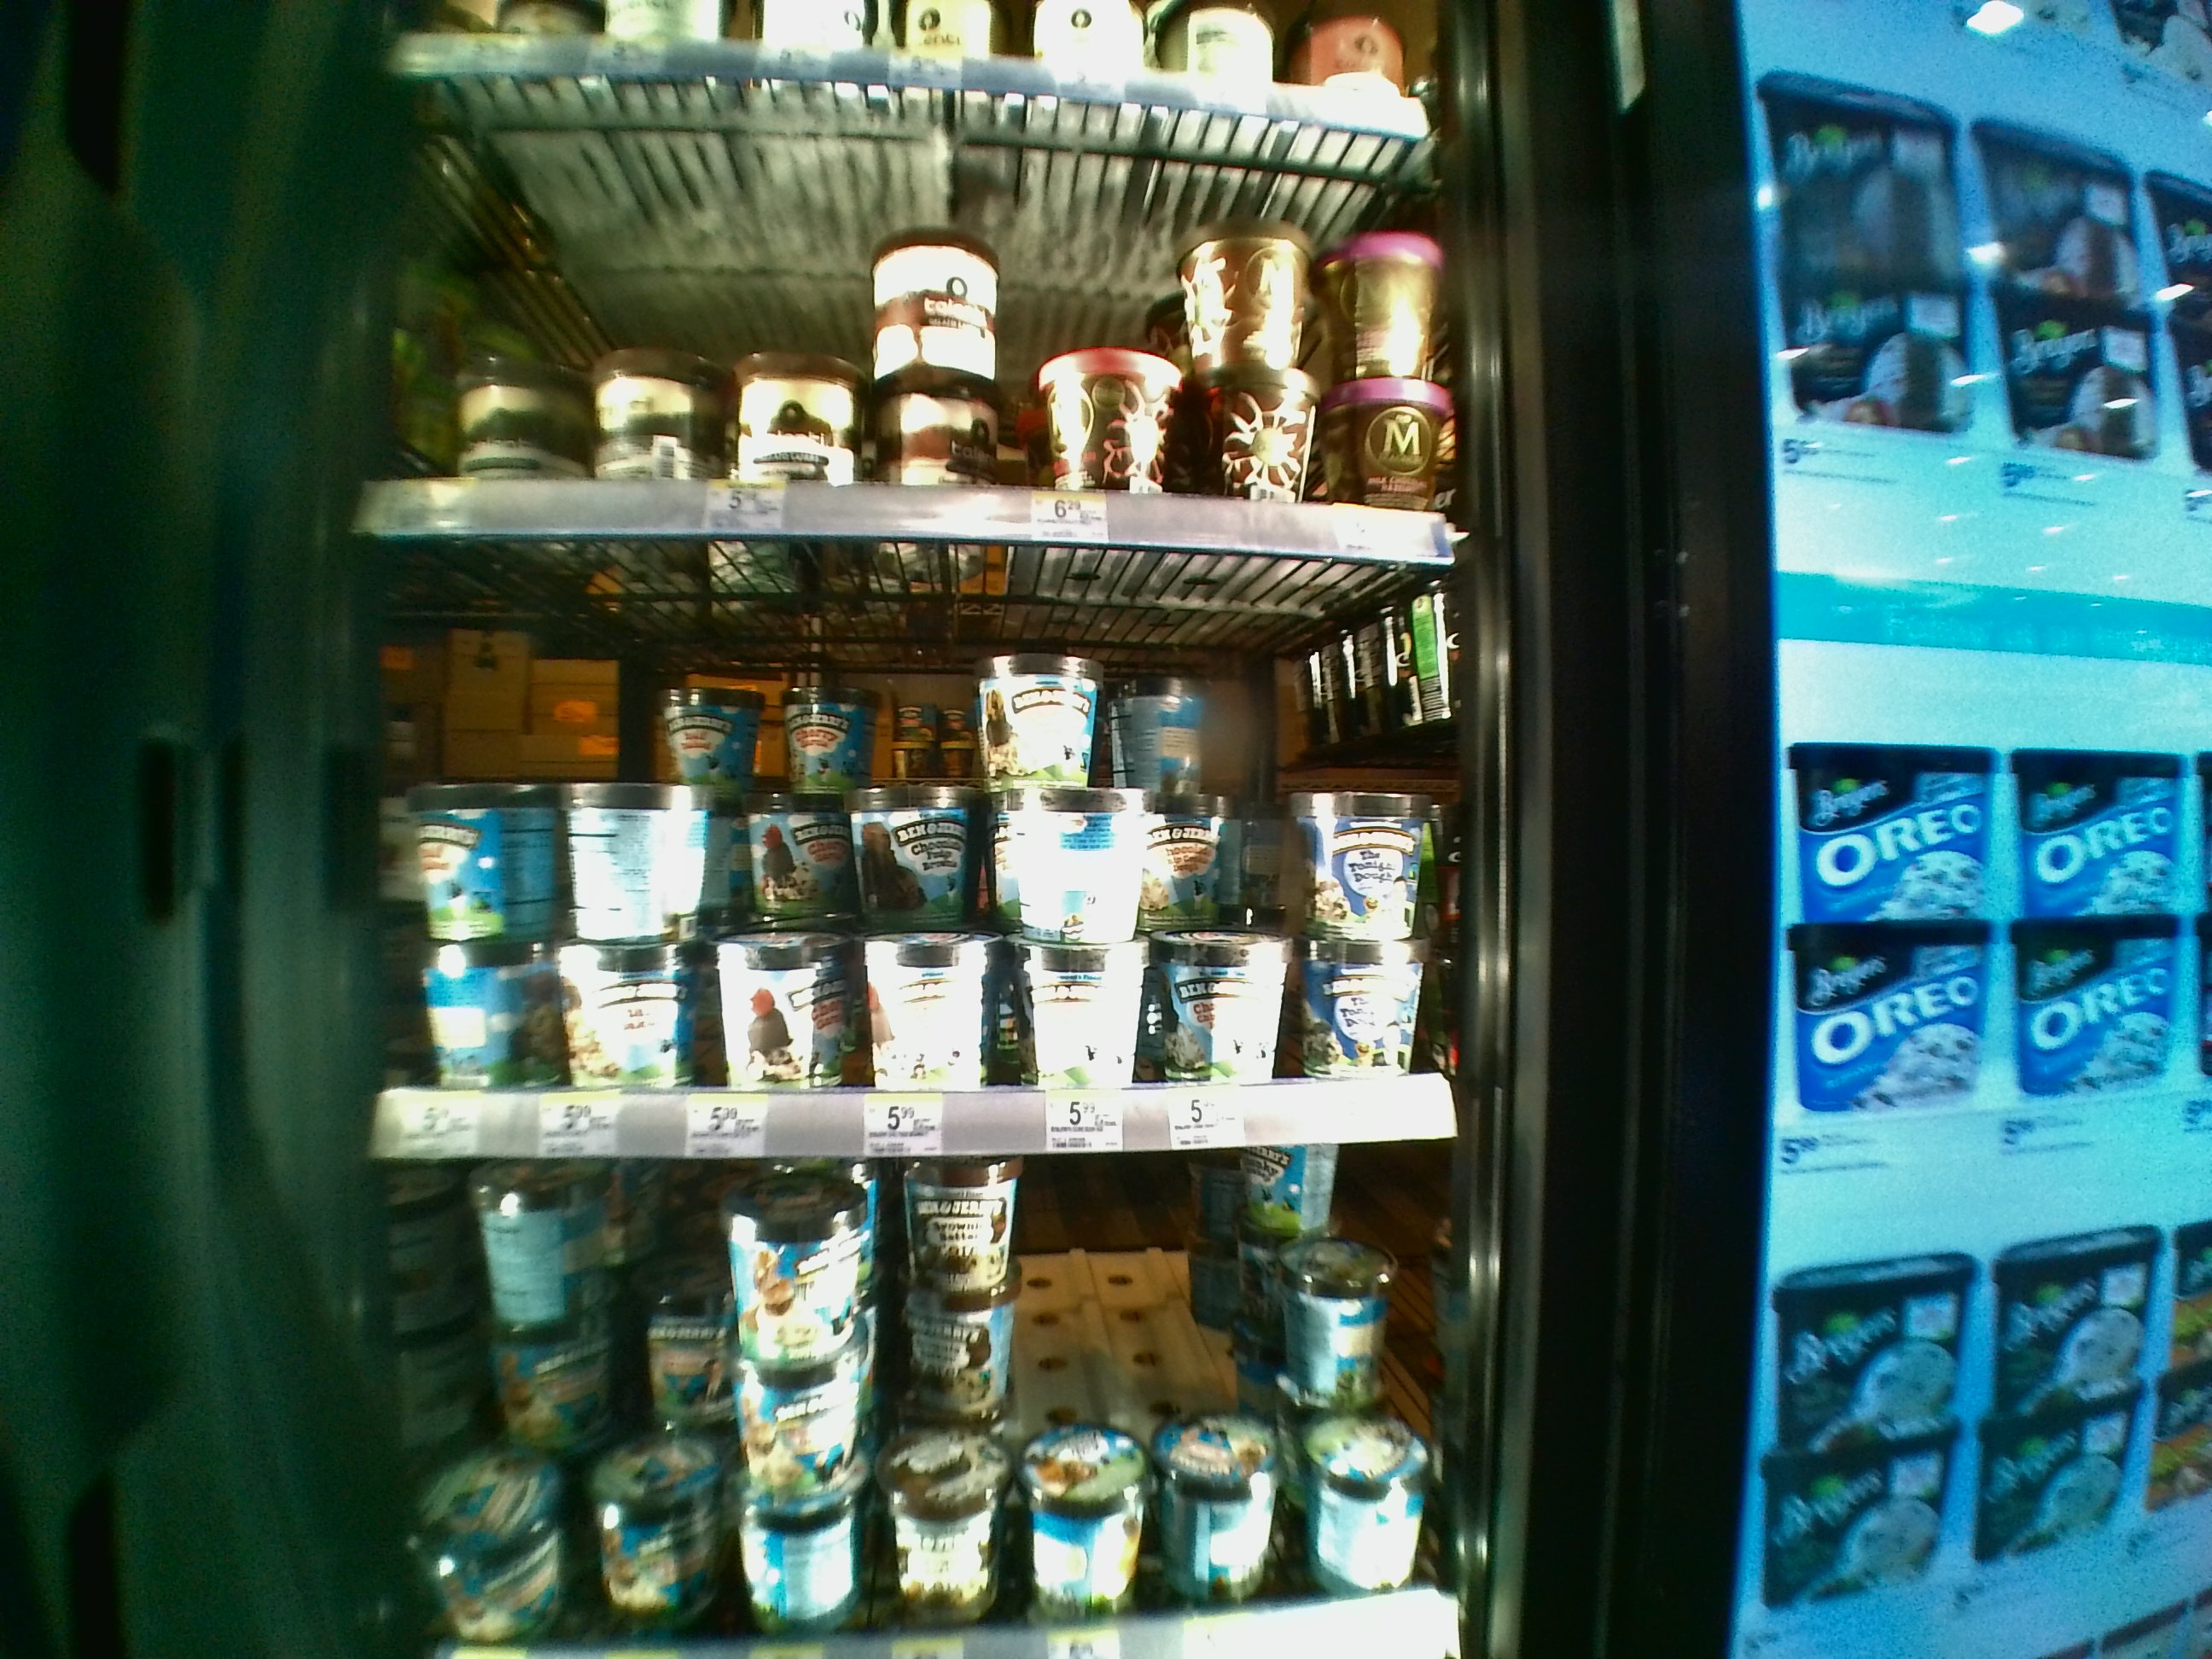shelf: (369, 551, 1458, 1155), (376, 82, 1444, 542)
